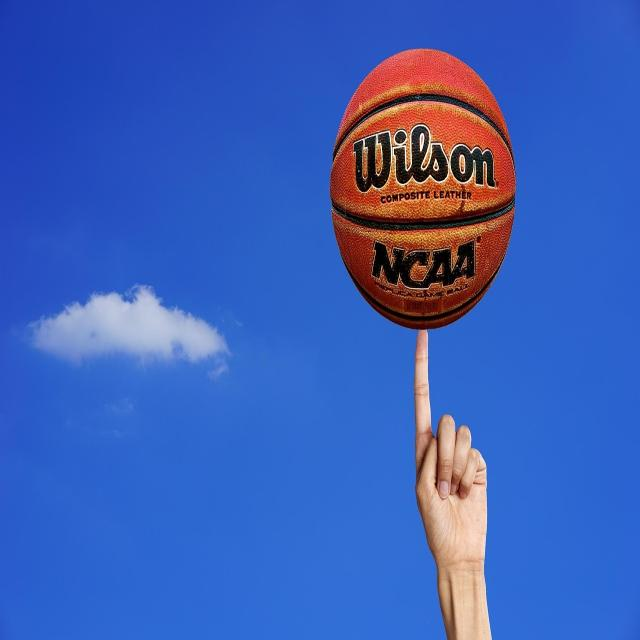Basketball: (331, 52, 516, 336)
